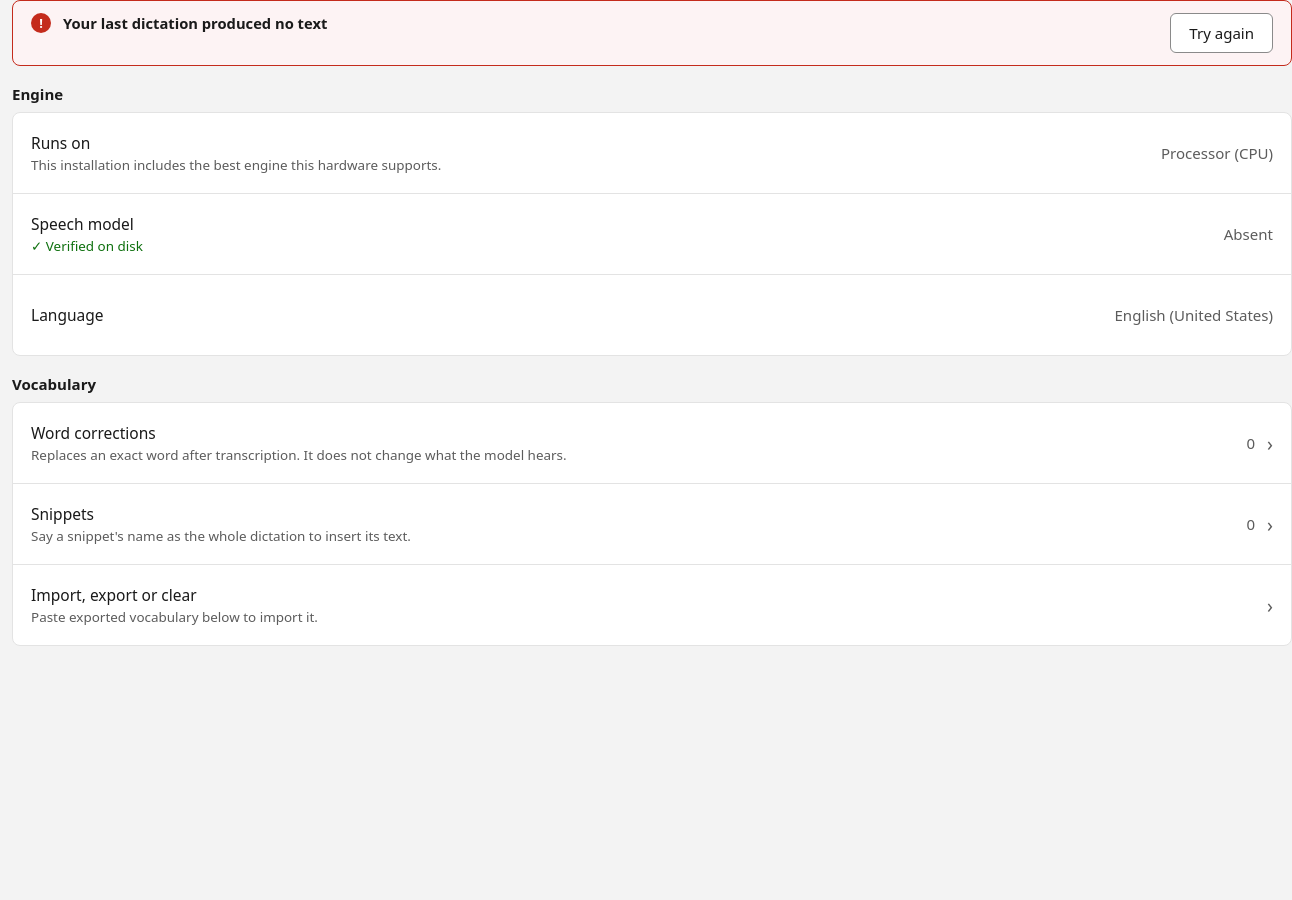
Test: a failed retry is reported when the status re-read also fails
The width and height of the screenshot is (1292, 900).
Click the button "Try again".
click(1222, 33)  # box [1170,13,1273,53]
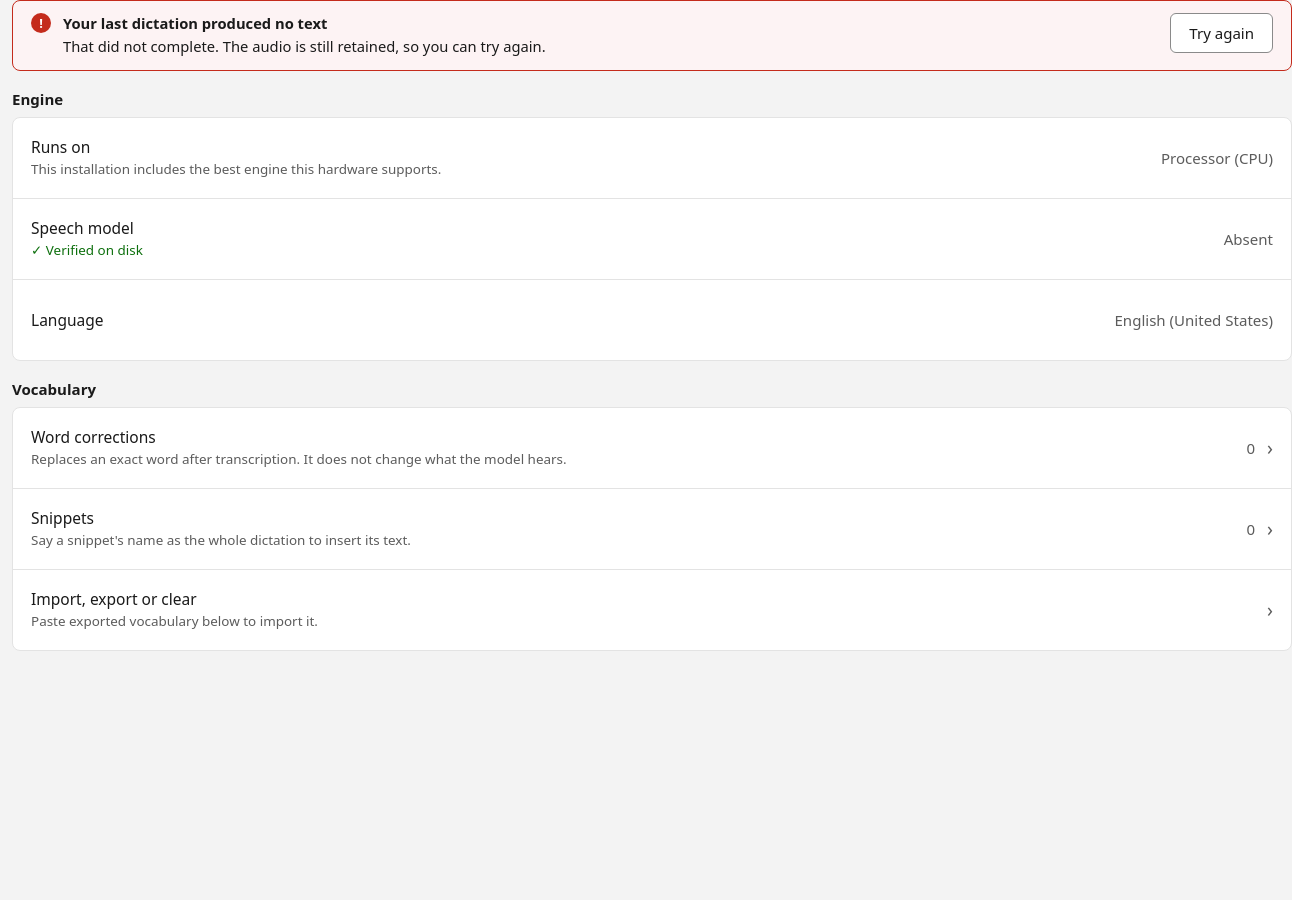
Expected: the text "That did not complete. The audio is still retained, so you can try again." is shown, [63,36,546,56]
